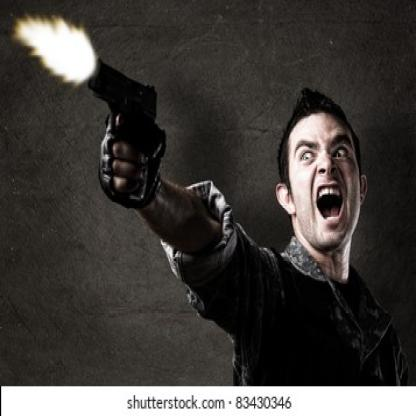handgun: (87, 57, 158, 145)
